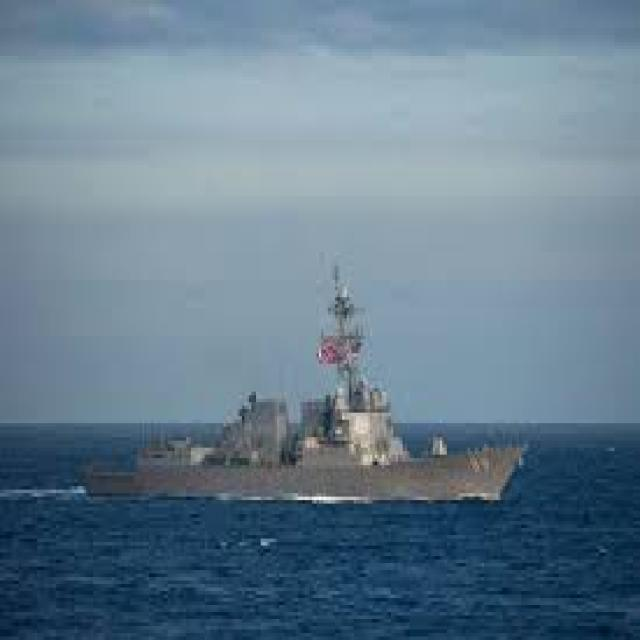navalvessels: (76, 277, 524, 501)
